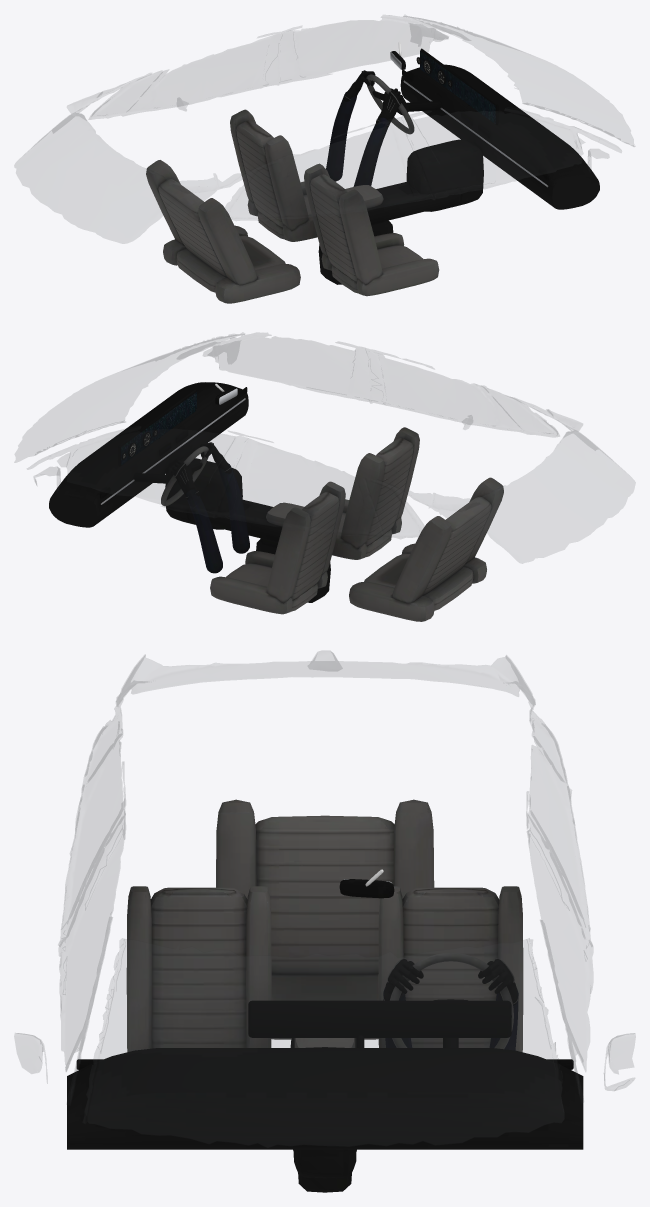
Rendered from rp1_vanta_cockpit_mid.glb.
3 renders of one model, top to bottom at view 1: azimuth 30°, elevation 25°; view 2: azimuth 150°, elevation 25°; view 3: azimuth 270°, elevation 25°, orthographic. The views are drawn at different scales.
Parts seen in each view (by area): view 1: cockpit_shell, cabin_glass, window_R, window_L, hands, steering_wheel; view 2: cockpit_shell, cabin_glass, window_L, window_R, hands, steering_wheel; view 3: cockpit_shell, cabin_glass, window_R, window_L, hands, steering_wheel.
Part boxes in pixels (bbox=[...]): cockpit_shell: bbox=[146, 41, 599, 303]; cabin_glass: bbox=[14, 16, 634, 243]; window_R: bbox=[402, 103, 608, 200]; window_L: bbox=[266, 15, 457, 86]; hands: bbox=[326, 70, 404, 186]; steering_wheel: bbox=[366, 74, 414, 134]; cockpit_shell: bbox=[49, 382, 503, 621]; cabin_glass: bbox=[14, 334, 635, 563]; window_L: bbox=[37, 421, 247, 517]; window_R: bbox=[194, 333, 384, 404]; hands: bbox=[171, 442, 249, 573]; steering_wheel: bbox=[161, 446, 208, 506]; cockpit_shell: bbox=[67, 799, 583, 1192]; cabin_glass: bbox=[14, 651, 635, 1147]; window_R: bbox=[34, 812, 125, 1083]; window_L: bbox=[526, 813, 632, 1090]; hands: bbox=[383, 958, 518, 1050]; steering_wheel: bbox=[390, 952, 513, 1049].
Bounding box in the file's own units: 3.31 × 1.29 × 1.93.
4 materials, 2 textured.
